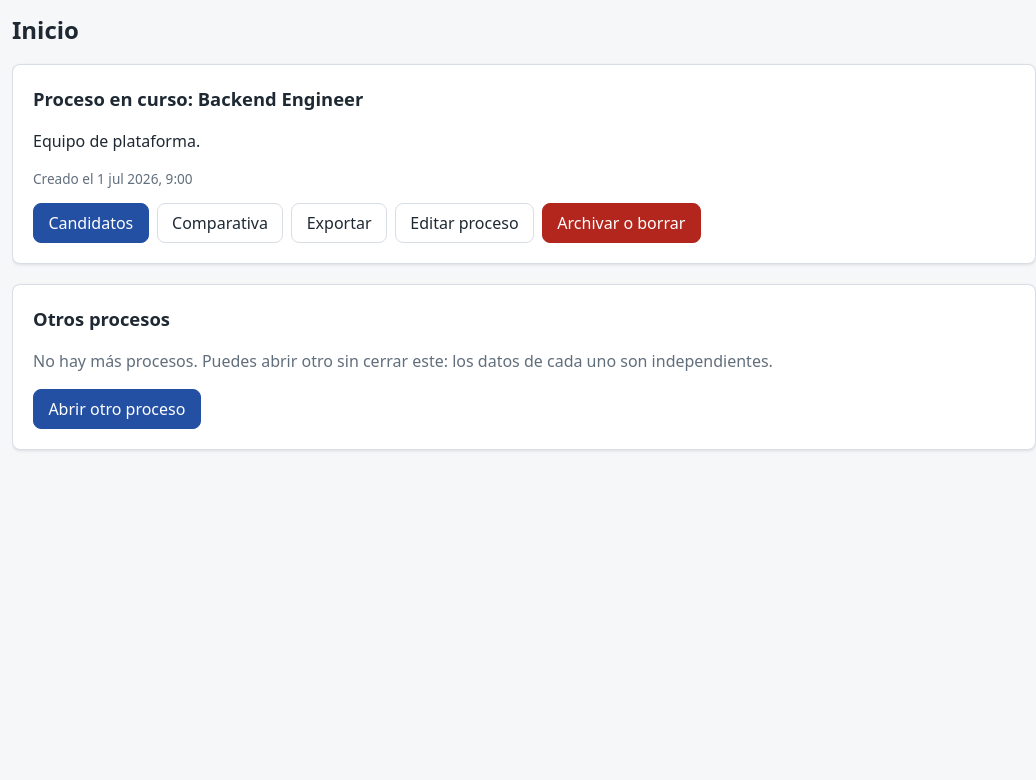
Test: HomePage — edición del proceso › el formulario de edición se abre precargado con el proceso en curso
Expected: the heading "Proceso en curso: Backend Engineer" is shown, top-left (33, 86), bottom-right (363, 111)
Expected: the text "Equipo de plataforma." is shown, top-left (33, 130), bottom-right (200, 152)
Click the button "Editar proceso" at (464, 223), box top-left (395, 203), bottom-right (534, 243)
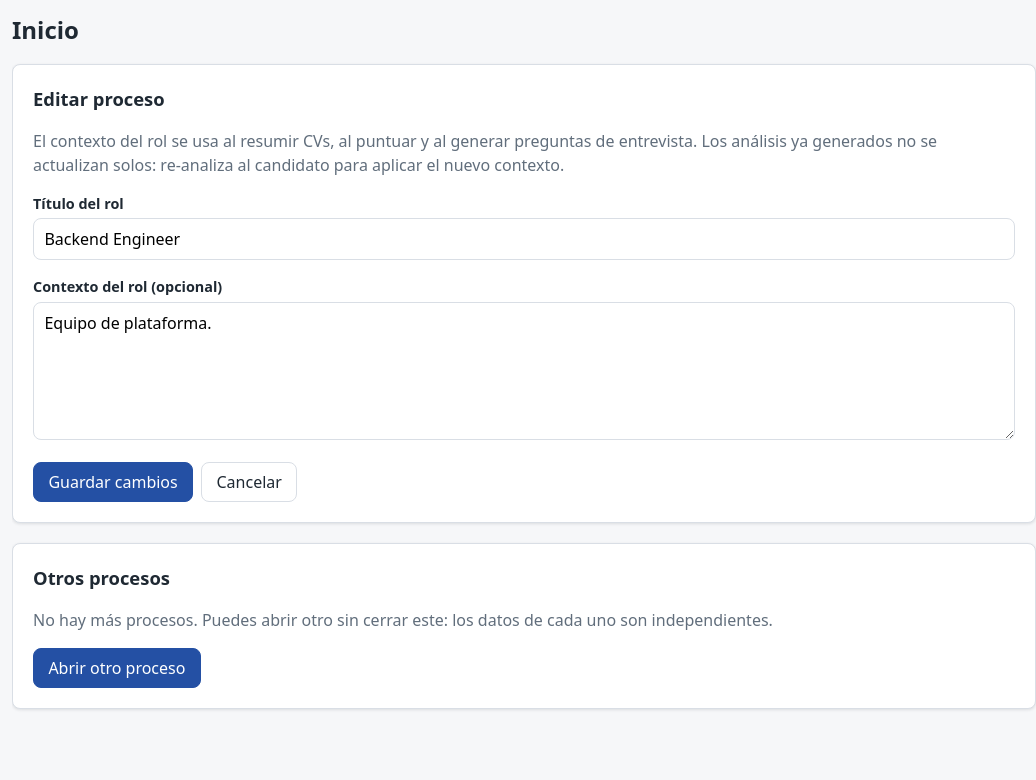
Expected: the field labelled "Título del rol" holds "Backend Engineer", top-left (33, 218), bottom-right (1015, 260)
Expected: the text box labelled "Contexto del rol (opcional)" holds "Equipo de plataforma.", top-left (33, 302), bottom-right (1015, 440)
